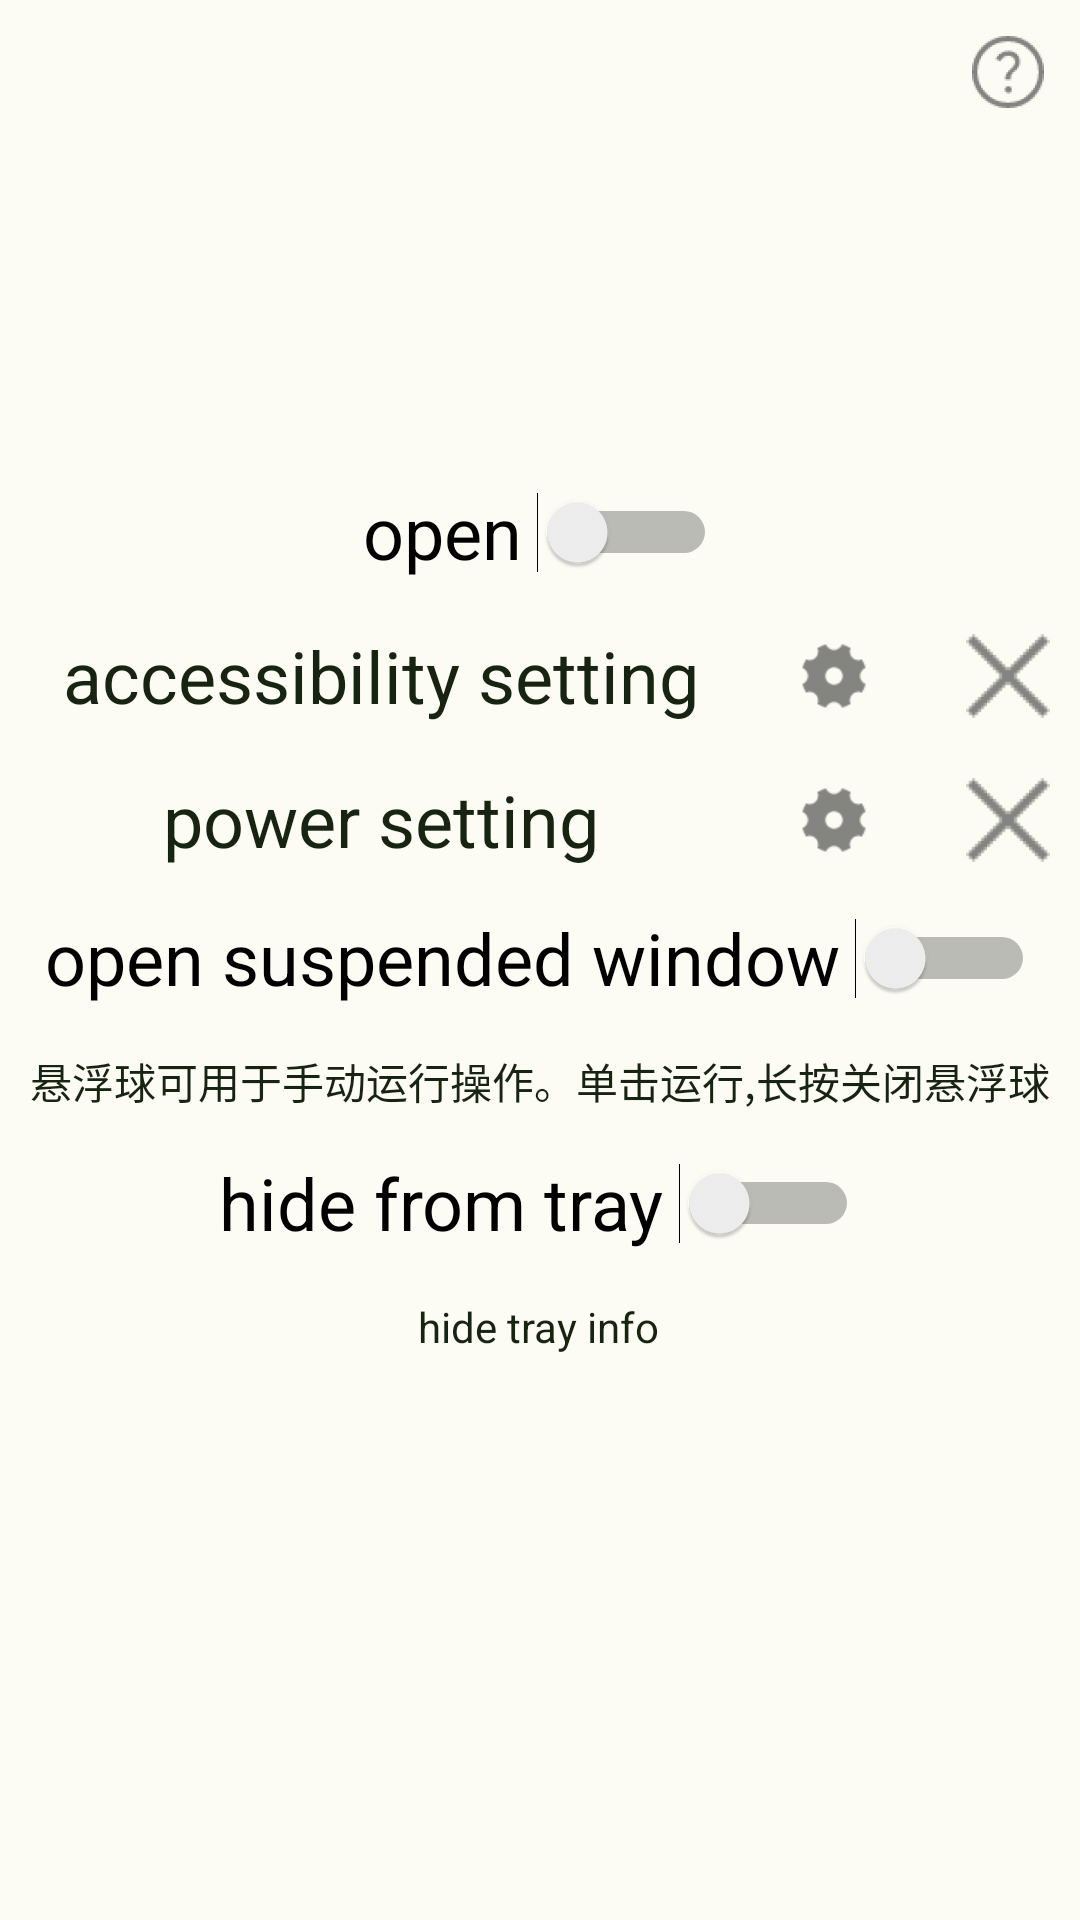

Point at icon controls on the screen. Image size 1080*1920, points as (x=x, y=y).
close: (x=1008, y=676), (x=1008, y=820)
help: (x=1008, y=72)
